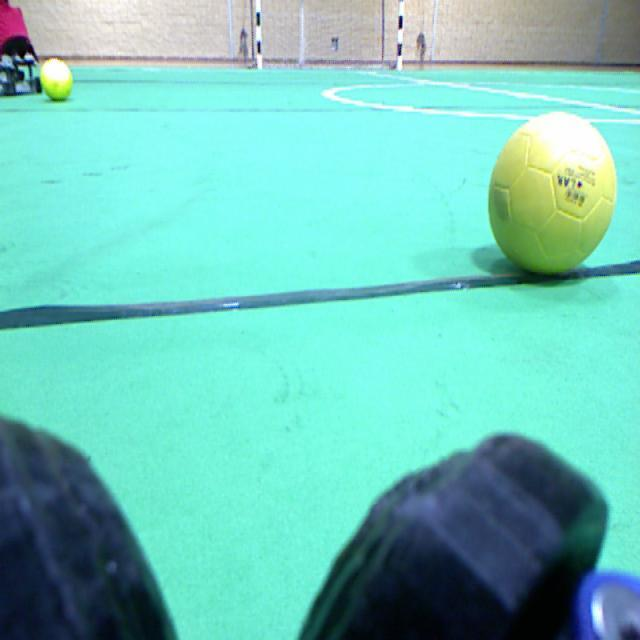ball: (488, 112, 615, 272), (40, 59, 71, 99)
